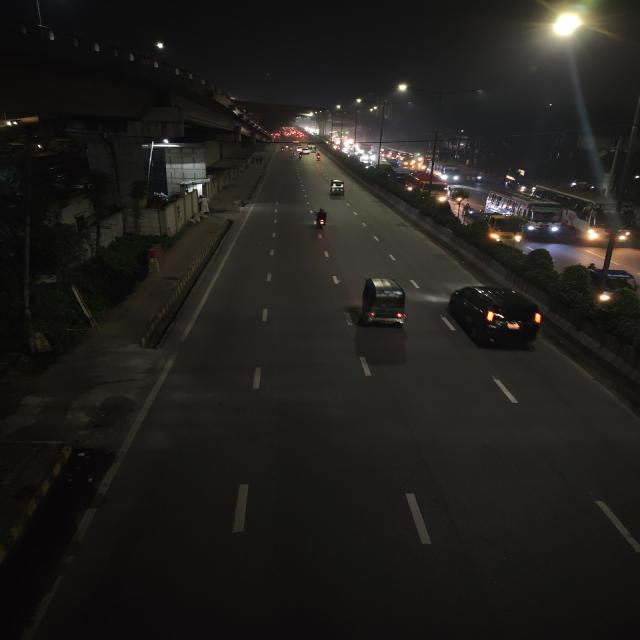bus: (572, 198, 630, 248), (519, 198, 568, 242), (434, 163, 461, 183)
car: (442, 278, 551, 354), (302, 148, 310, 154)
cng: (348, 274, 416, 332), (326, 178, 347, 198)
motorcycle: (309, 207, 332, 231), (469, 173, 484, 184), (314, 153, 322, 163), (298, 152, 303, 160)
truck: (417, 175, 449, 204)
